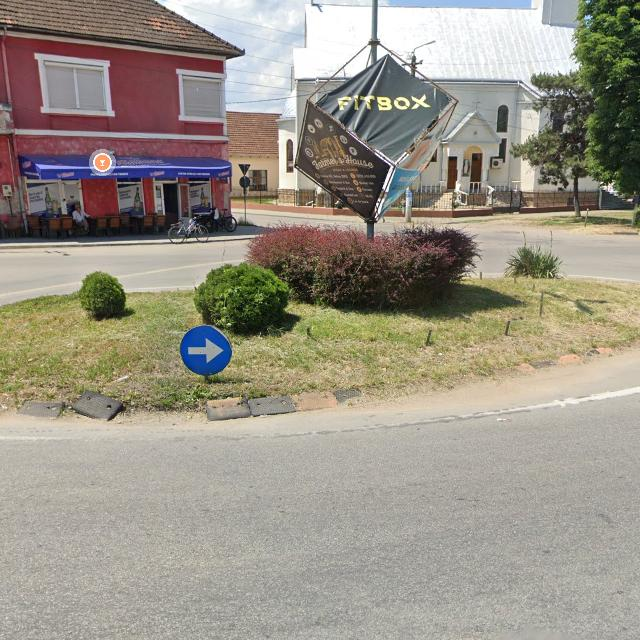mand_pass_right: (180, 325, 232, 376)
